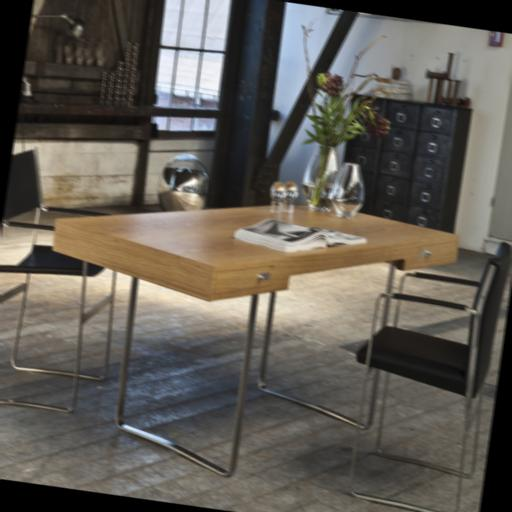chair: (333, 223, 512, 512), (0, 142, 136, 419)
desk: (22, 168, 462, 504)
